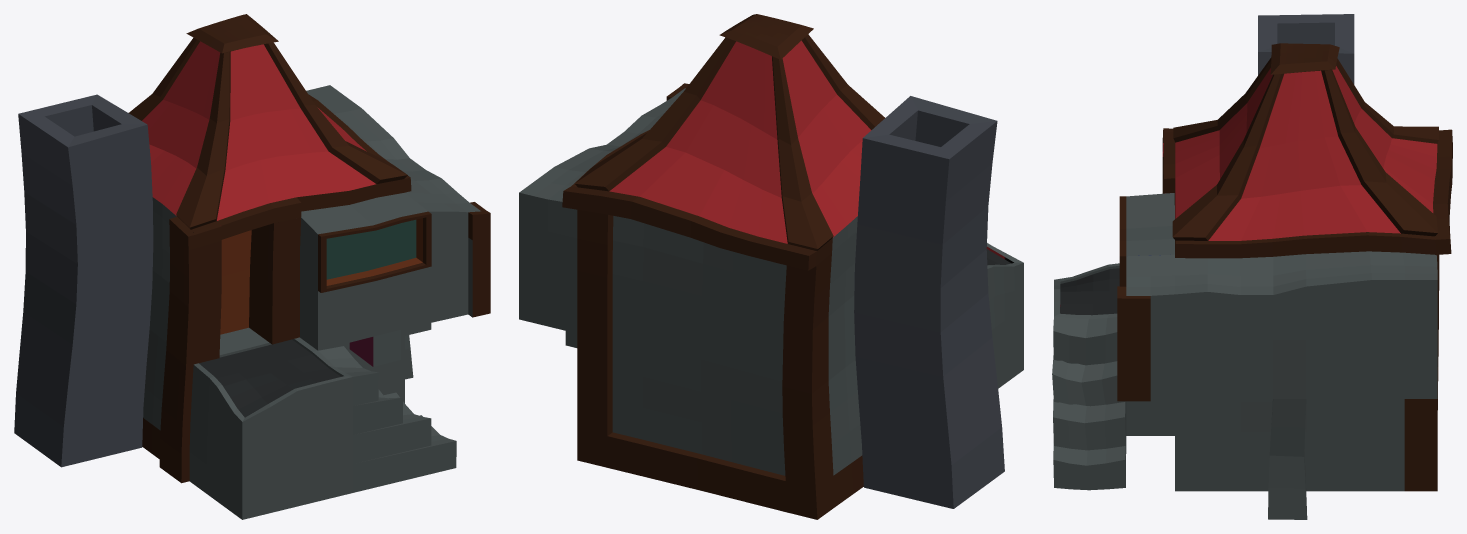
The model's file is maison_moyenne_01.fbx.
The picture shows the model from 3 angles, left to right: view 1: azimuth 30°, elevation 25°; view 2: azimuth 150°, elevation 25°; view 3: azimuth 270°, elevation 25°; orthographic projection. The views are drawn at different scales.
Visible parts, largest first — view 1: Cube.001; view 2: Cube.001; view 3: Cube.001.
Boxes of the visible parts, left/top/right/bottom form: Cube.001: left=14, top=14, right=490, bottom=519; Cube.001: left=519, top=14, right=1023, bottom=519; Cube.001: left=1052, top=14, right=1452, bottom=519.
Bounding box in the file's own units: 889 × 888 × 831.
